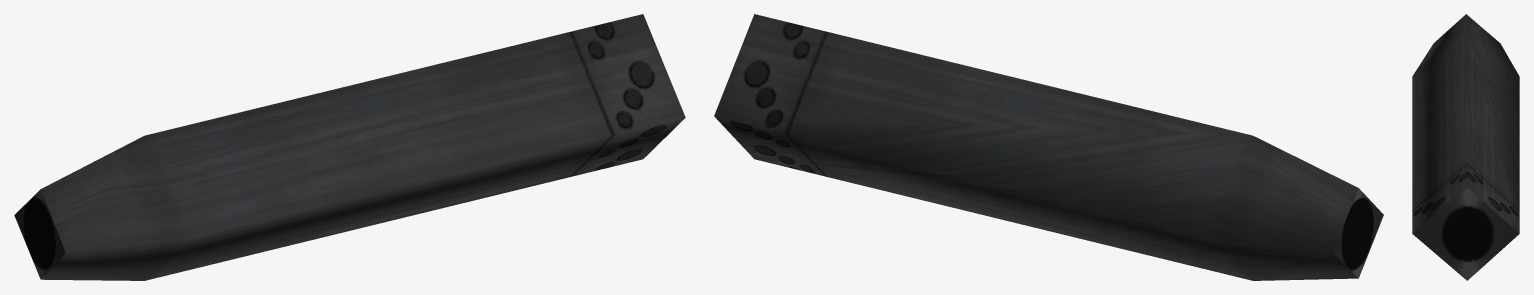
The model's file is t6_attach_sniper_silencer1_world_LOD2.obj.
3 views of the same model, side by side, from view 1: azimuth 30°, elevation 25°; view 2: azimuth 150°, elevation 25°; view 3: azimuth 270°, elevation 25° (orthographic). The views are drawn at different scales.
Parts seen in each view (by area): view 1: mtl_t6_attach_sniper_silencer1; view 2: mtl_t6_attach_sniper_silencer1; view 3: mtl_t6_attach_sniper_silencer1.
Part boxes in pixels (left/top/right/bottom): mtl_t6_attach_sniper_silencer1: left=14, top=14, right=685, bottom=280; mtl_t6_attach_sniper_silencer1: left=714, top=14, right=1383, bottom=280; mtl_t6_attach_sniper_silencer1: left=1412, top=14, right=1519, bottom=280.
Bounding box in the file's own units: 24.32 × 5.59 × 5.77.
